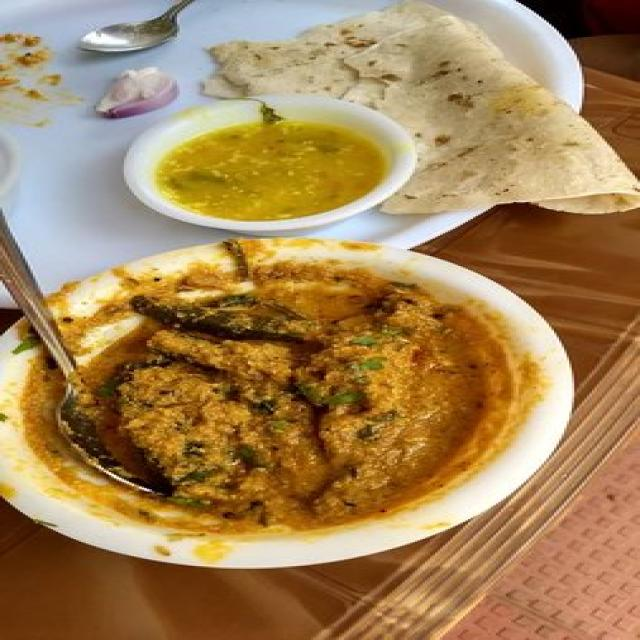ROTI: (197, 1, 637, 210)
